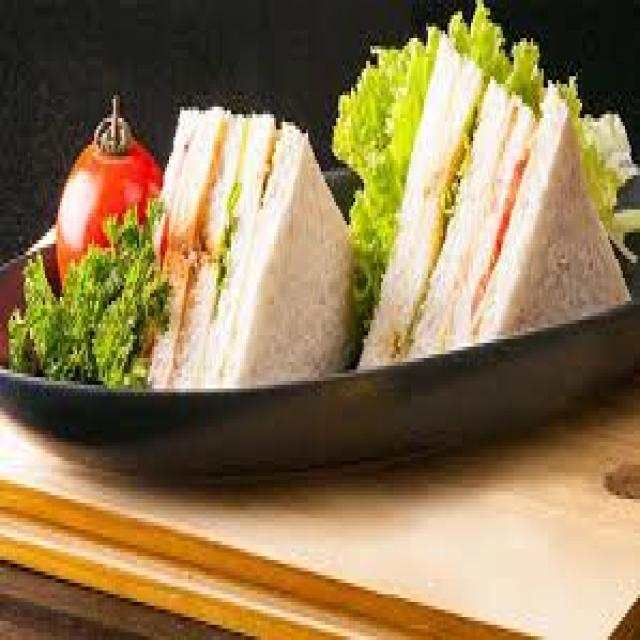Sandwich: (70, 72, 640, 357)
